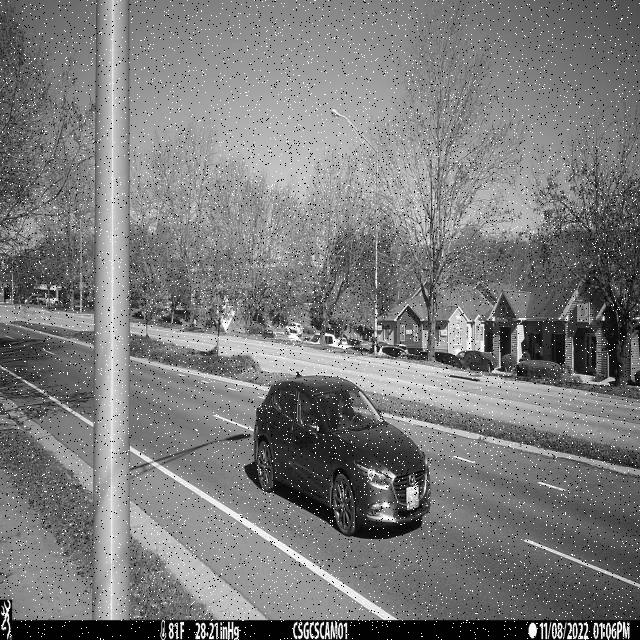Hatchback: (254, 373, 433, 537)
